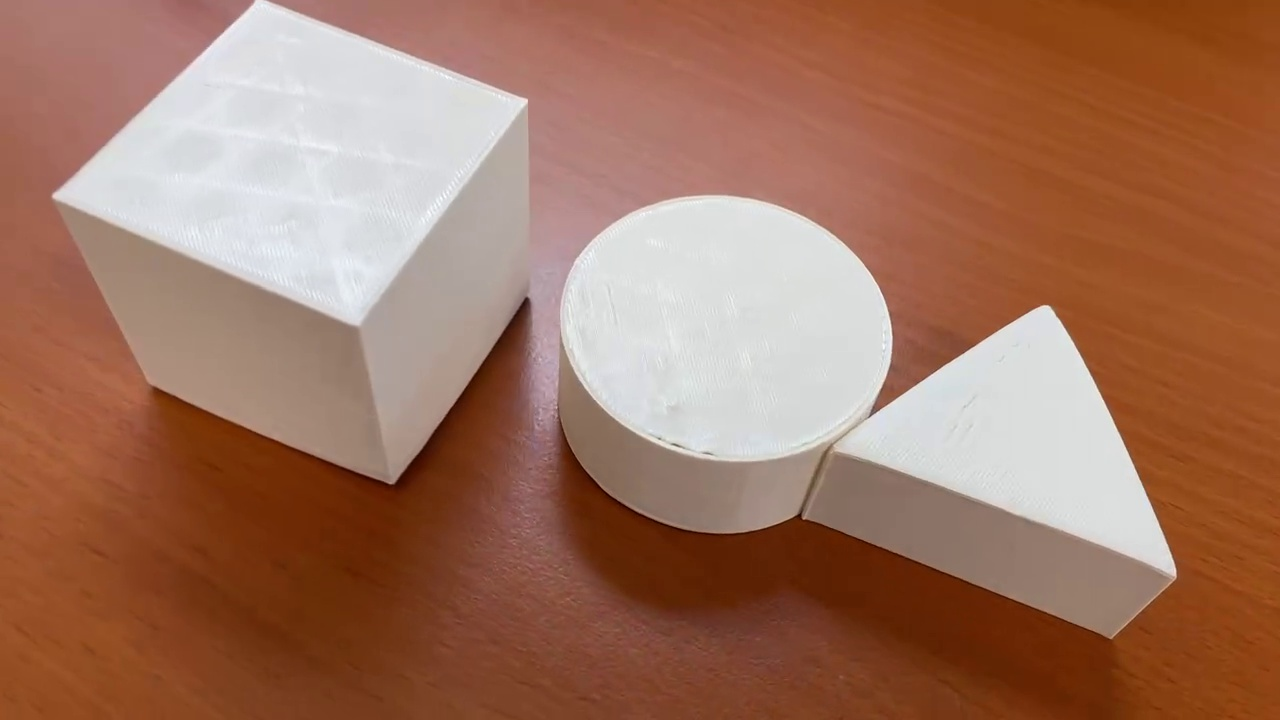Cube: (39, 2, 528, 486)
Cylinder_short: (559, 193, 894, 533)
Triangle_short: (795, 302, 1178, 642)
